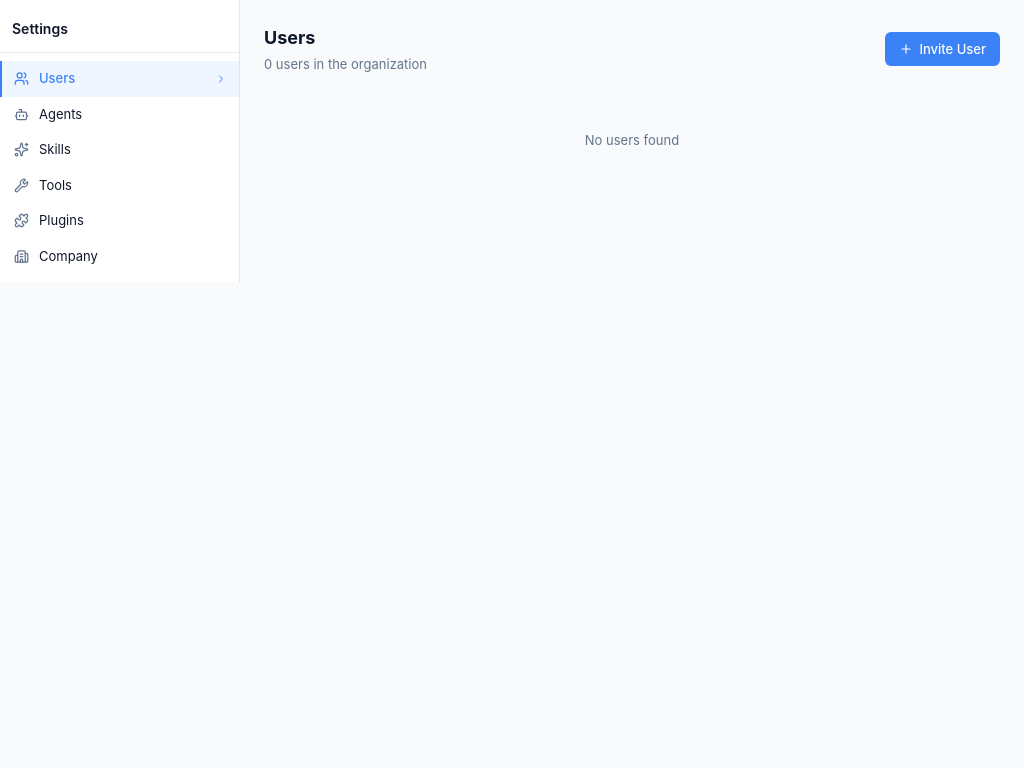
Test case: SettingsScreen › agents section shows "New" button that opens dialog
Step 1. Click the button "Agents" → (120, 114), box [0,96,239,132]
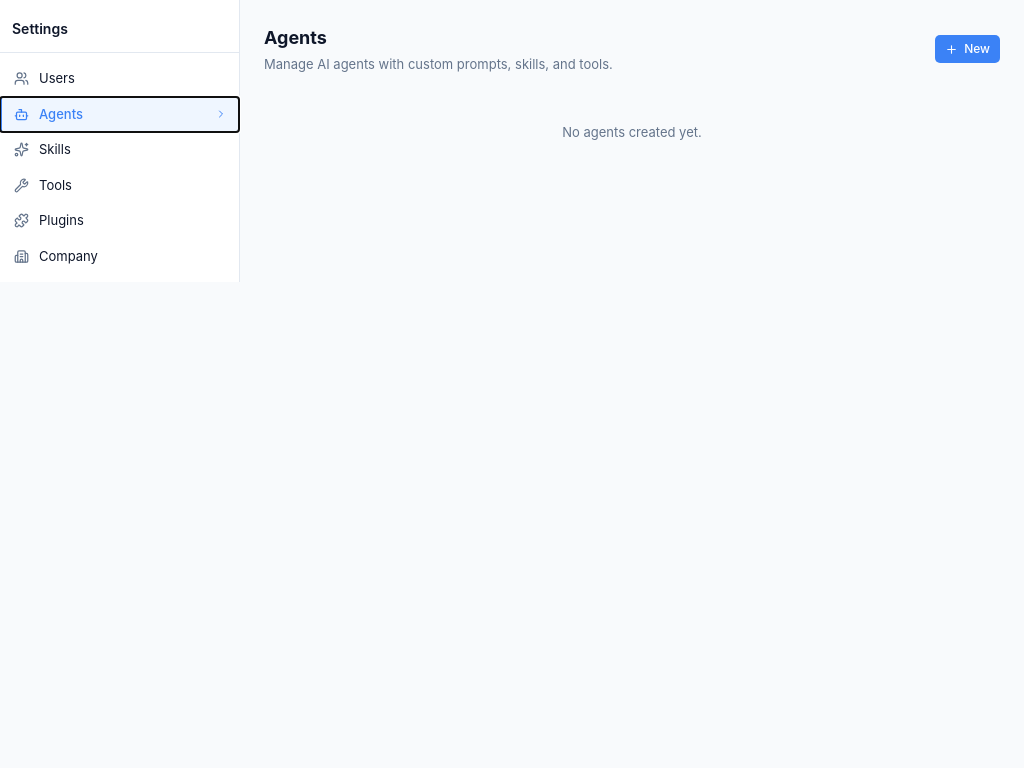
Step 2. Click the button "New" → (968, 49), box [935,35,1000,63]
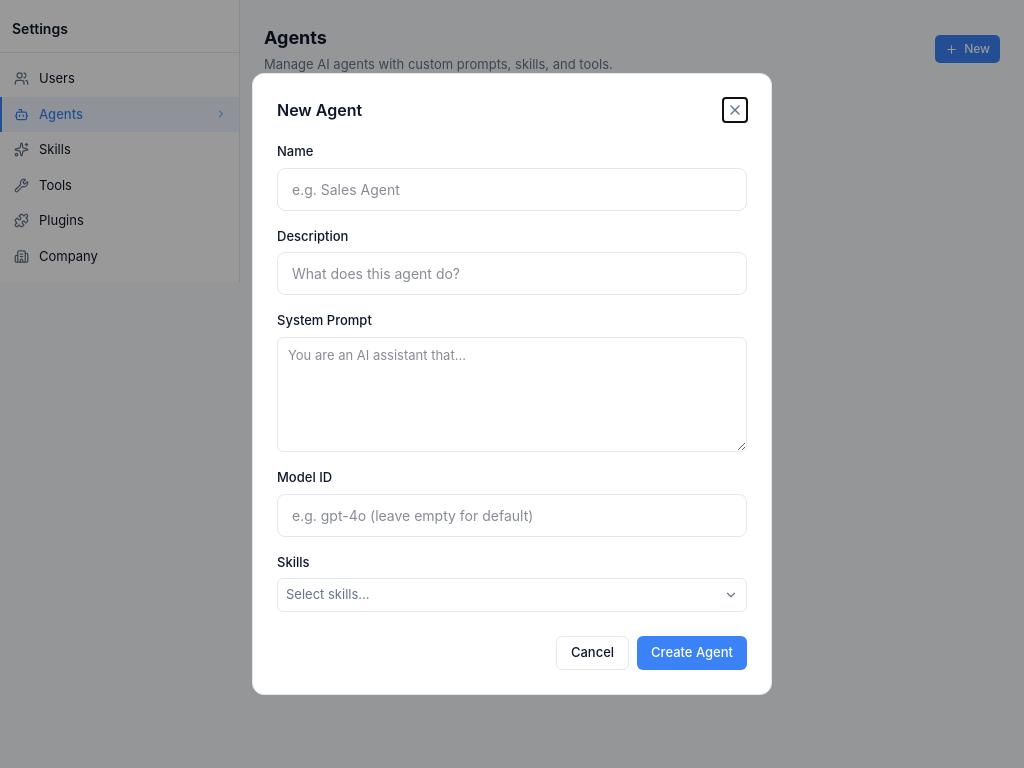
Expected: the dialog is shown, [252,73,772,695]
Expected: the heading "New Agent" is shown, [277,98,362,122]
